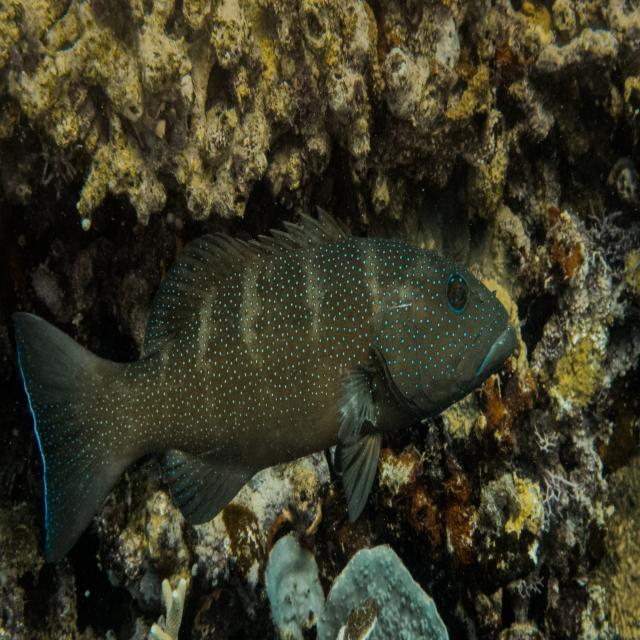Plectropomus-leopardus: (9, 200, 532, 577)
